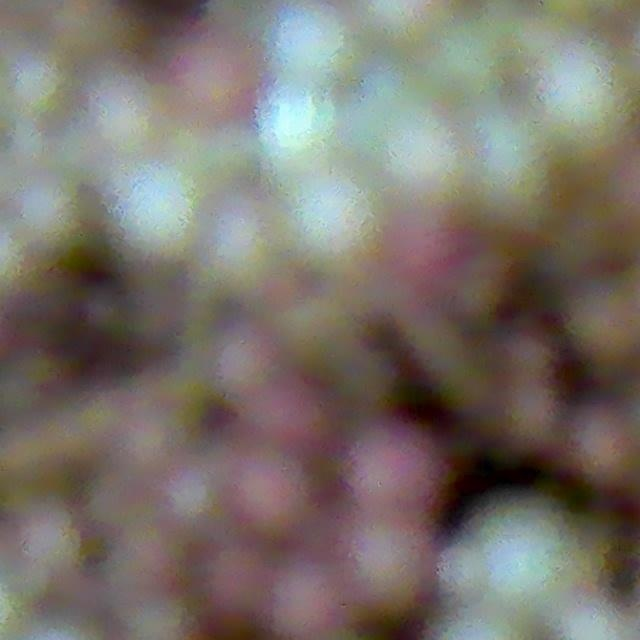SeaGrape: (457, 494, 579, 619), (154, 33, 287, 139), (537, 50, 628, 148), (220, 452, 315, 545), (263, 0, 359, 89), (466, 117, 553, 215), (356, 518, 440, 616), (254, 83, 339, 170), (356, 428, 435, 521), (292, 568, 380, 640), (564, 285, 640, 368), (261, 367, 328, 453), (15, 172, 85, 249), (215, 540, 287, 614), (567, 405, 636, 479), (229, 335, 285, 393)
